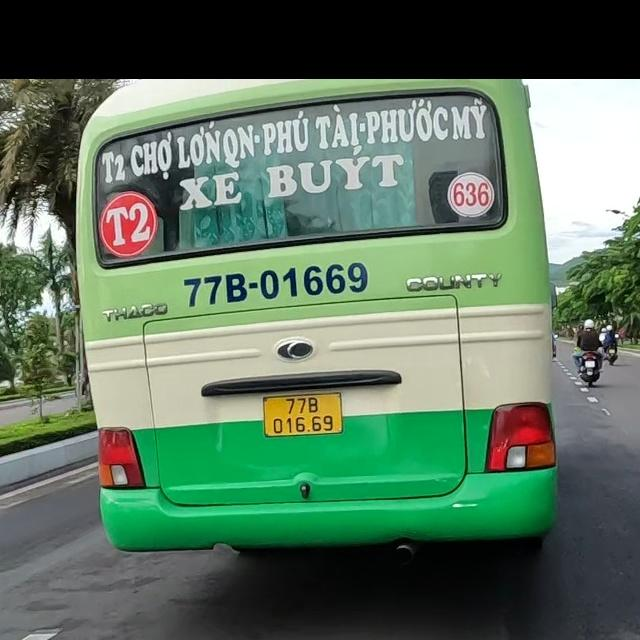license-plate: (263, 392, 343, 438)
